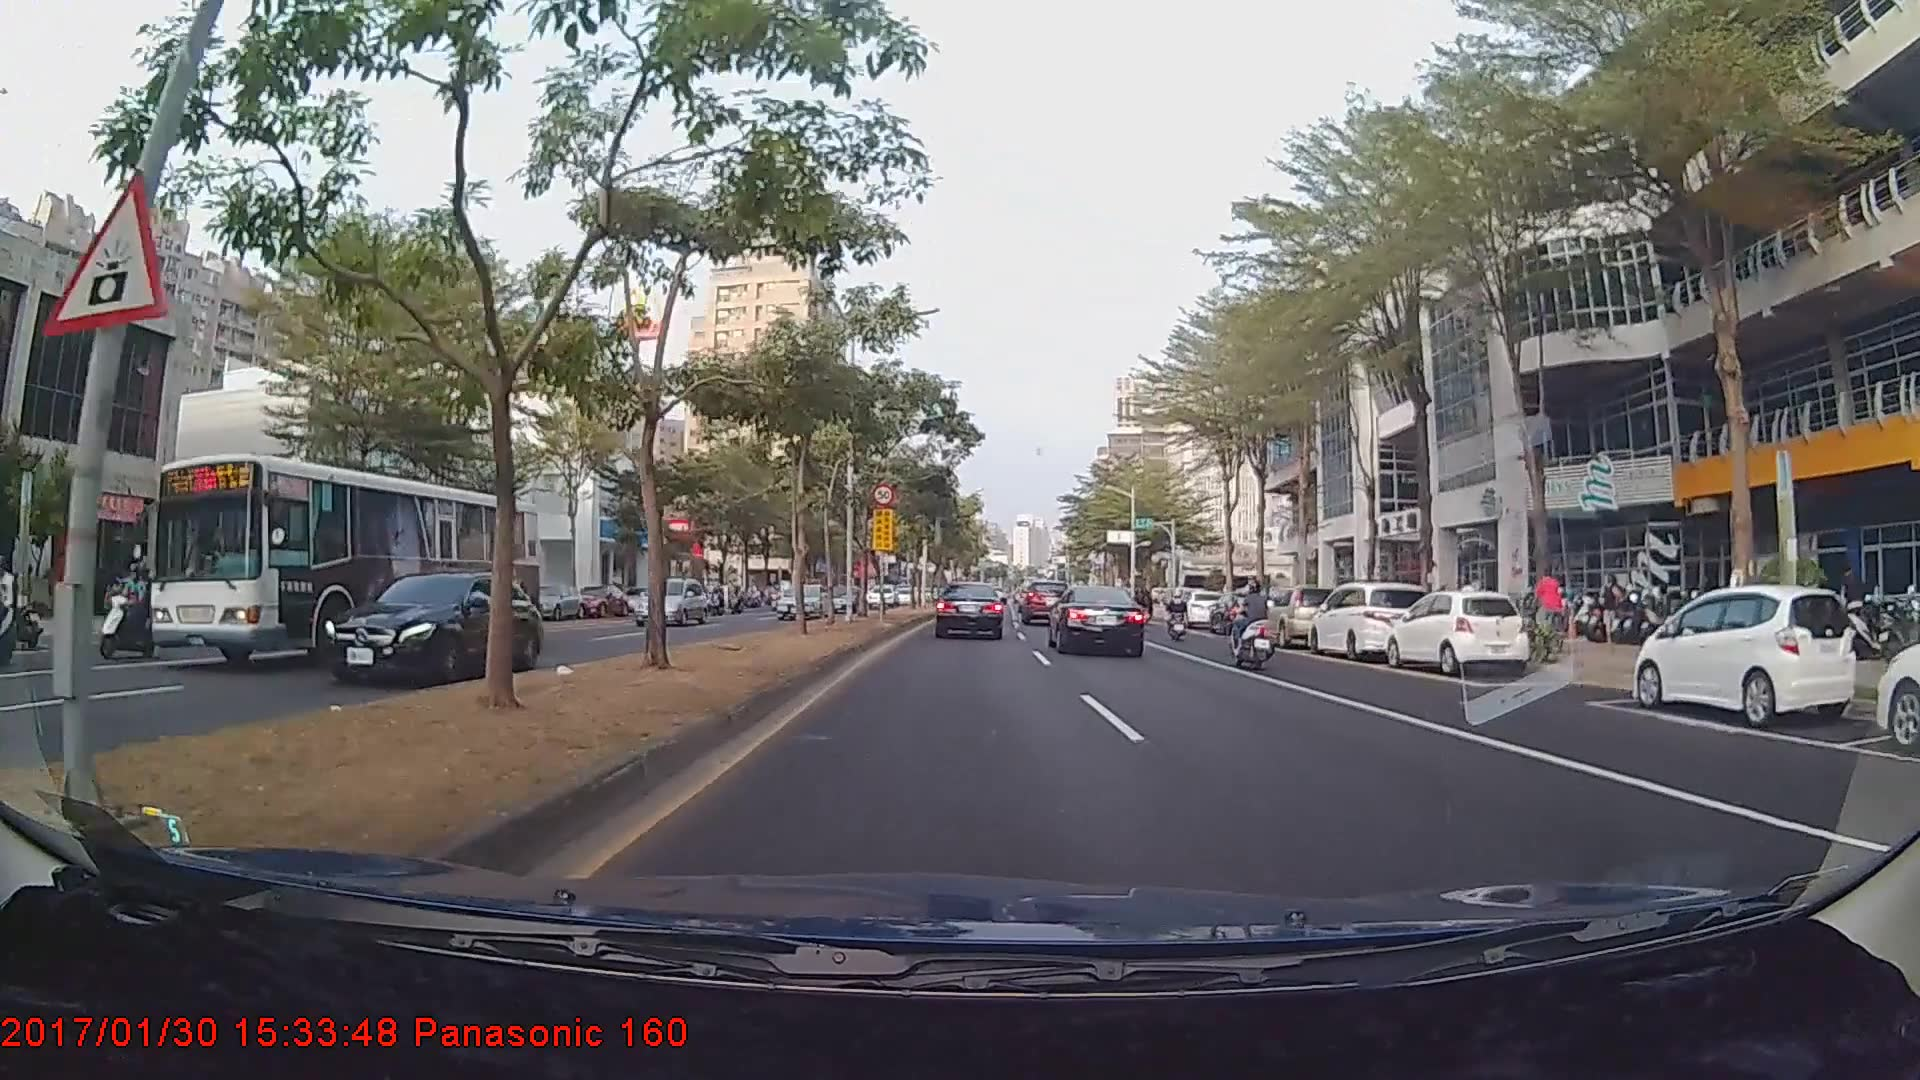rider: (1223, 582, 1289, 671), (1525, 567, 1575, 658), (1163, 586, 1193, 644)
vehicle: (144, 449, 541, 670), (1633, 583, 1846, 722), (318, 567, 544, 686), (1383, 588, 1527, 677), (1311, 581, 1428, 664), (1873, 604, 1920, 755), (1050, 583, 1147, 656), (1256, 586, 1346, 649), (934, 580, 1006, 640), (633, 574, 705, 624), (1021, 582, 1070, 627), (776, 583, 828, 618)
